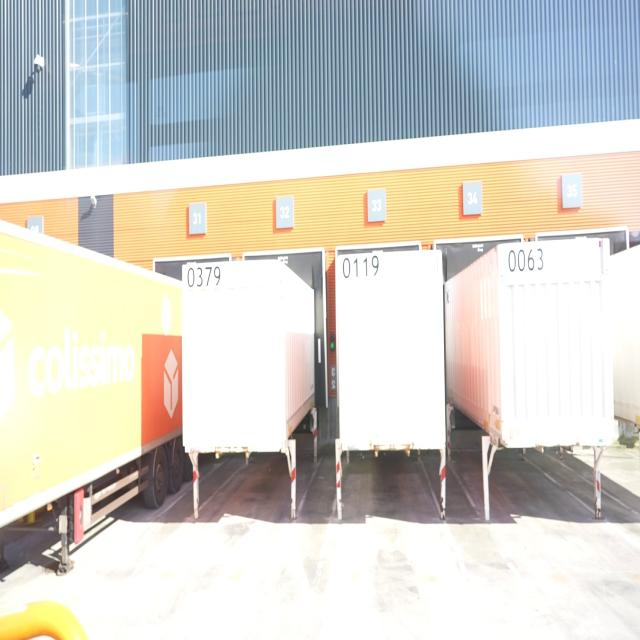Code: (340, 252, 380, 284), (506, 247, 544, 276), (184, 264, 223, 290)
